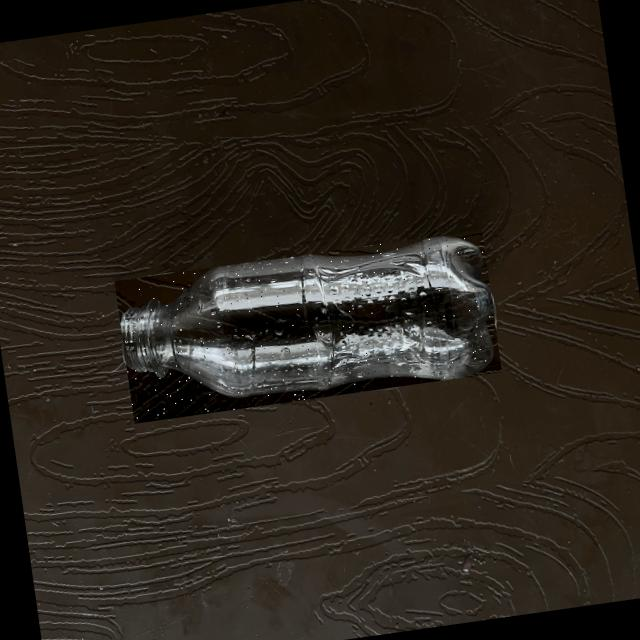PET_With_Liquid: (121, 237, 492, 395)
